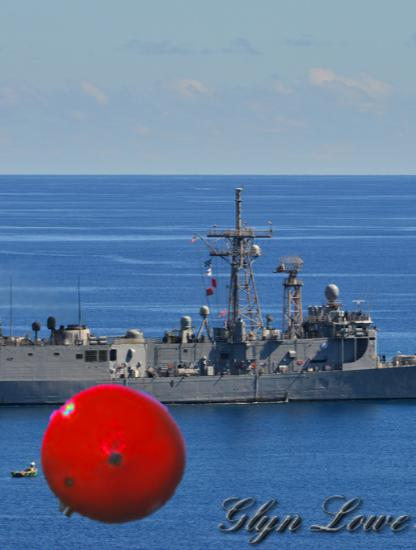Kaki: (37, 384, 185, 532)
